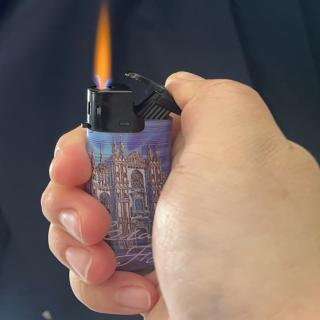fire: (90, 2, 114, 84)
